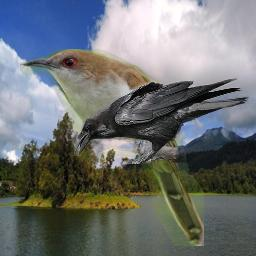Crow: (74, 78, 250, 164)
Cuckoo: (20, 49, 204, 246)
